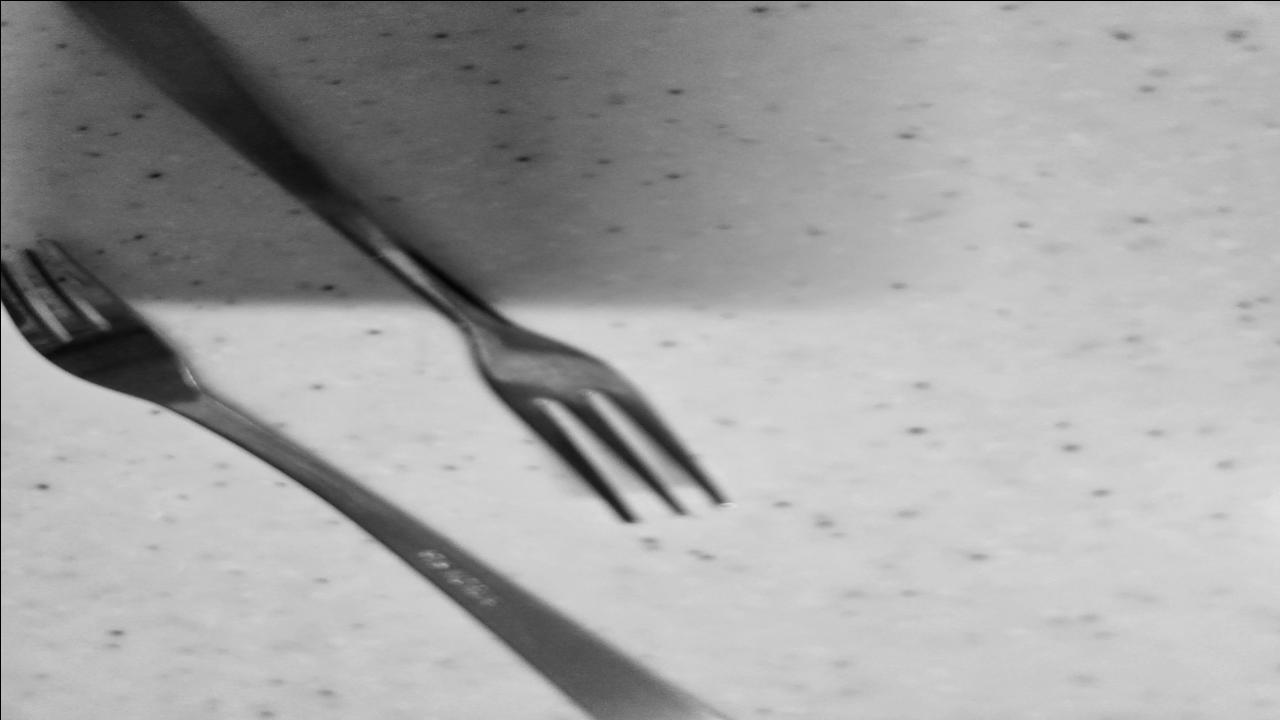fork: (20, 0, 728, 523), (0, 239, 740, 720)
